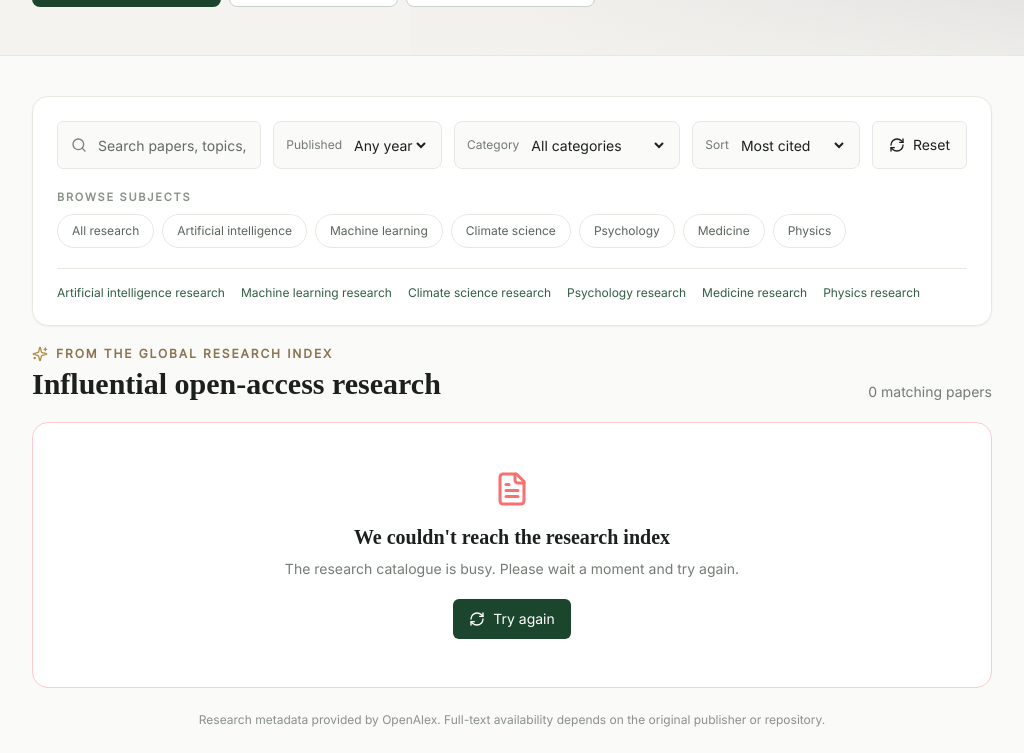
Test: ResearchPapers › shows a provider error and retries successfully
(page scrolled)
Expected: the message shows "research catalogue is busy", [285,560,739,576]
Click the button "Try again". click: (512, 618)
box: [453,598,571,638]
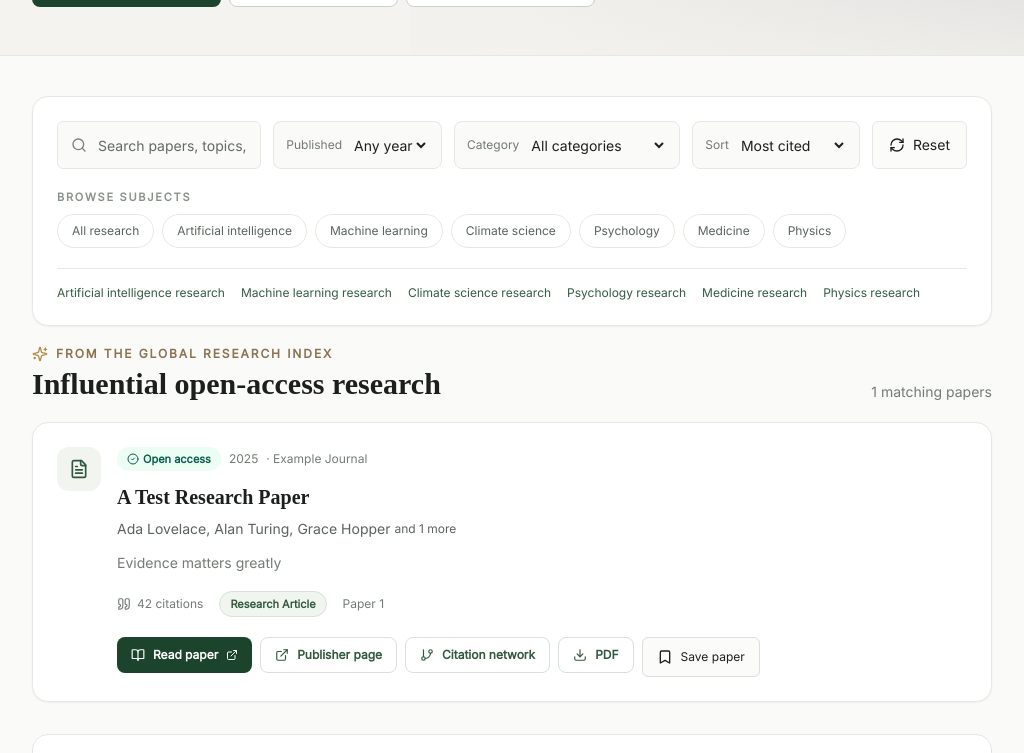
Now the heading "A Test Research Paper" is shown, box [117,486,309,508]
